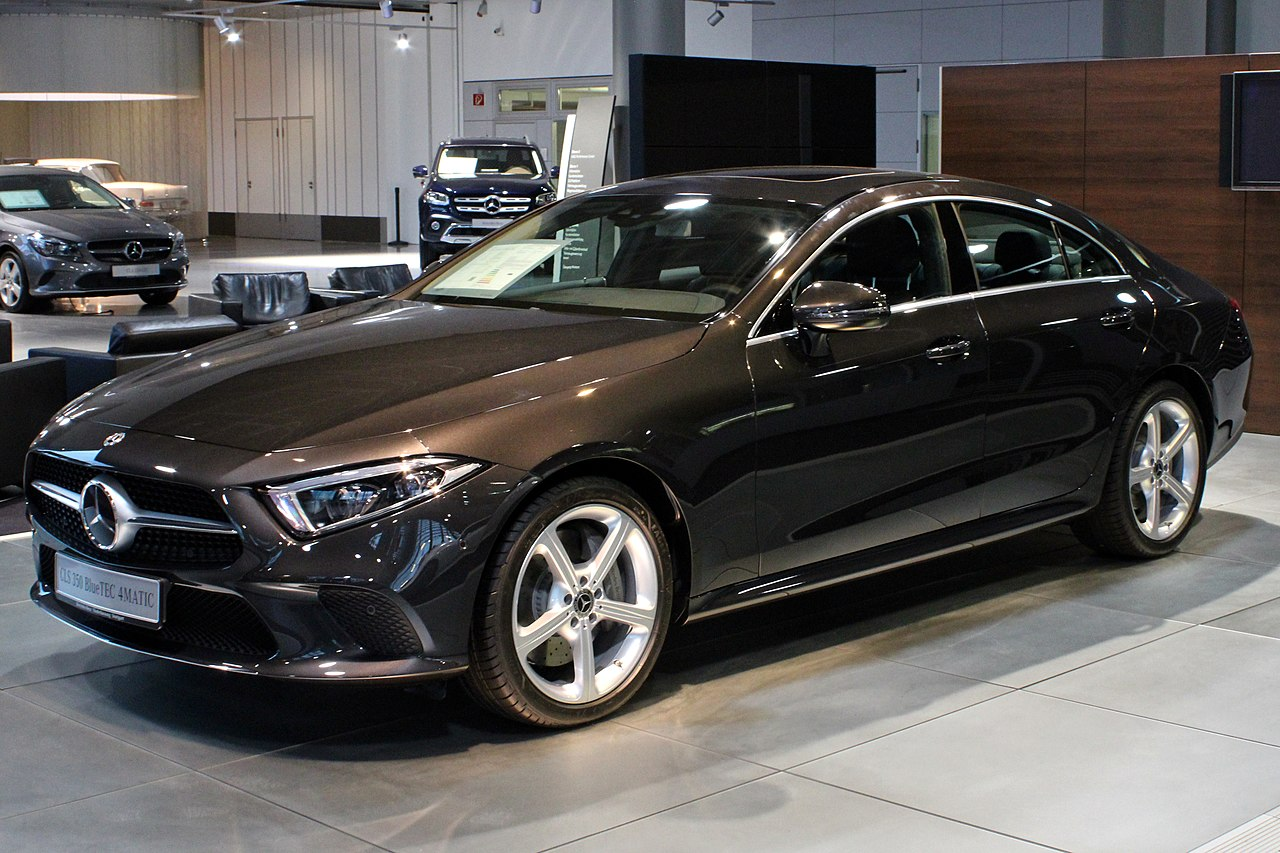araba: (22, 165, 1251, 730)
